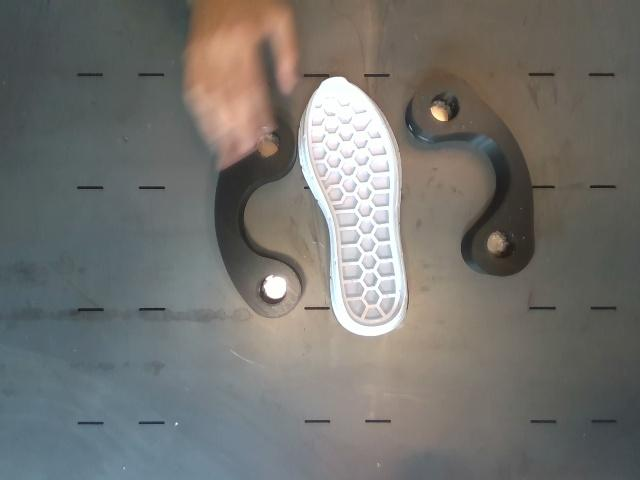shoes: (305, 77, 404, 327)
